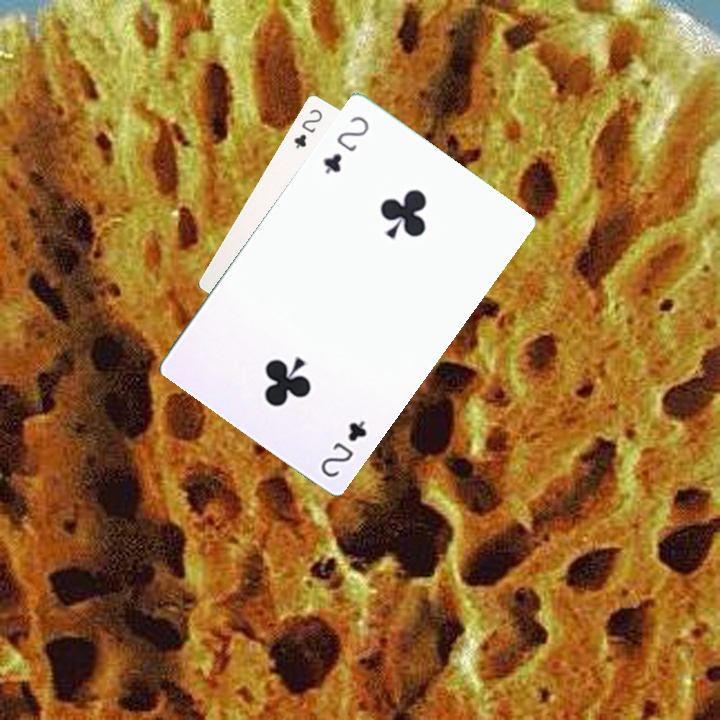2c: (318, 111, 372, 177), (316, 415, 370, 481), (290, 105, 325, 151)
